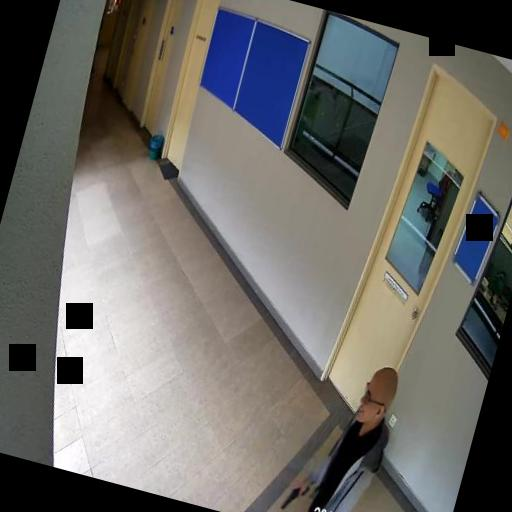Handgun: (279, 477, 308, 512)
